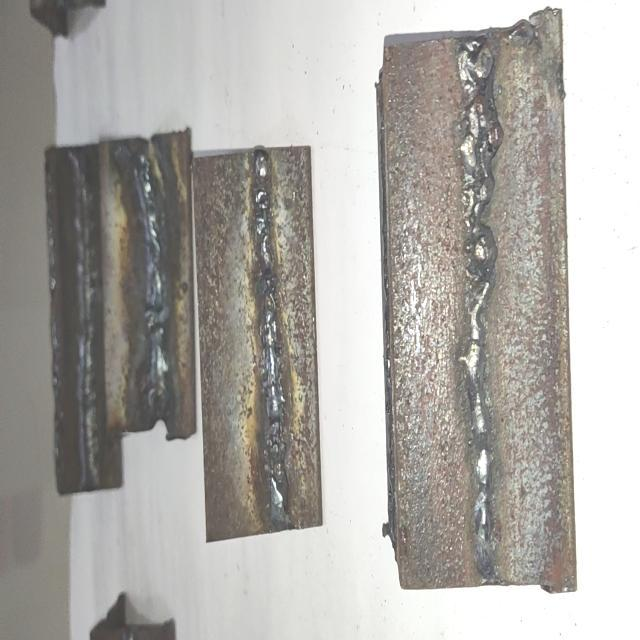Defect: (459, 48, 496, 561), (249, 167, 288, 512), (131, 161, 170, 412)
Welding Line: (462, 40, 494, 573), (254, 162, 288, 528), (138, 151, 171, 411), (72, 154, 98, 478)
Workpiece: (384, 22, 575, 590), (197, 154, 321, 534), (108, 142, 197, 435), (46, 144, 120, 486)
